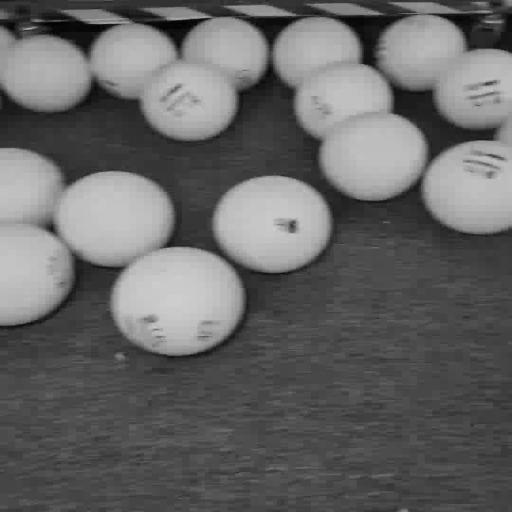fuel: (110, 247, 246, 356), (213, 176, 333, 273), (54, 171, 175, 267), (320, 113, 429, 201), (421, 140, 511, 234), (140, 60, 238, 141), (0, 221, 75, 326), (294, 64, 393, 139), (0, 35, 92, 113), (375, 15, 466, 91), (90, 23, 178, 100), (272, 17, 362, 88), (182, 18, 269, 90), (433, 49, 511, 129), (0, 148, 65, 227), (0, 27, 16, 88)
